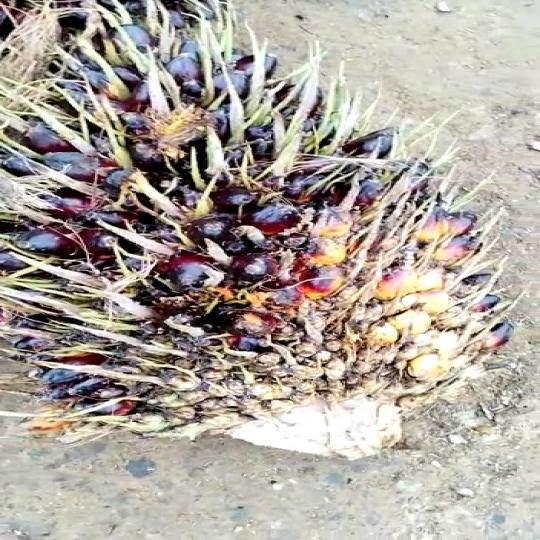mentah: (0, 2, 523, 460)
